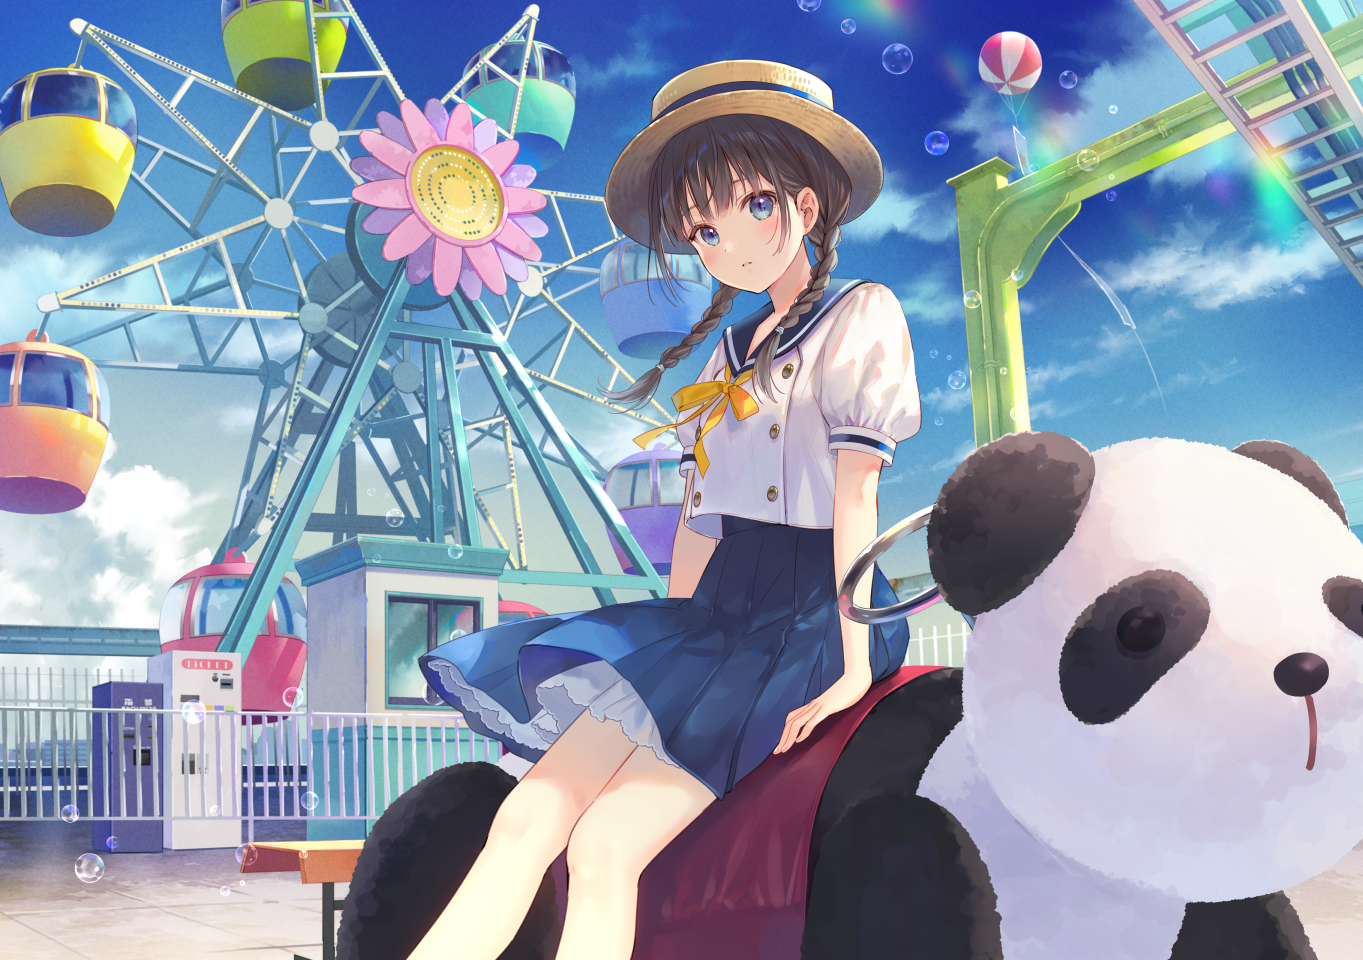纸片人正脸: (612, 73, 873, 299)
